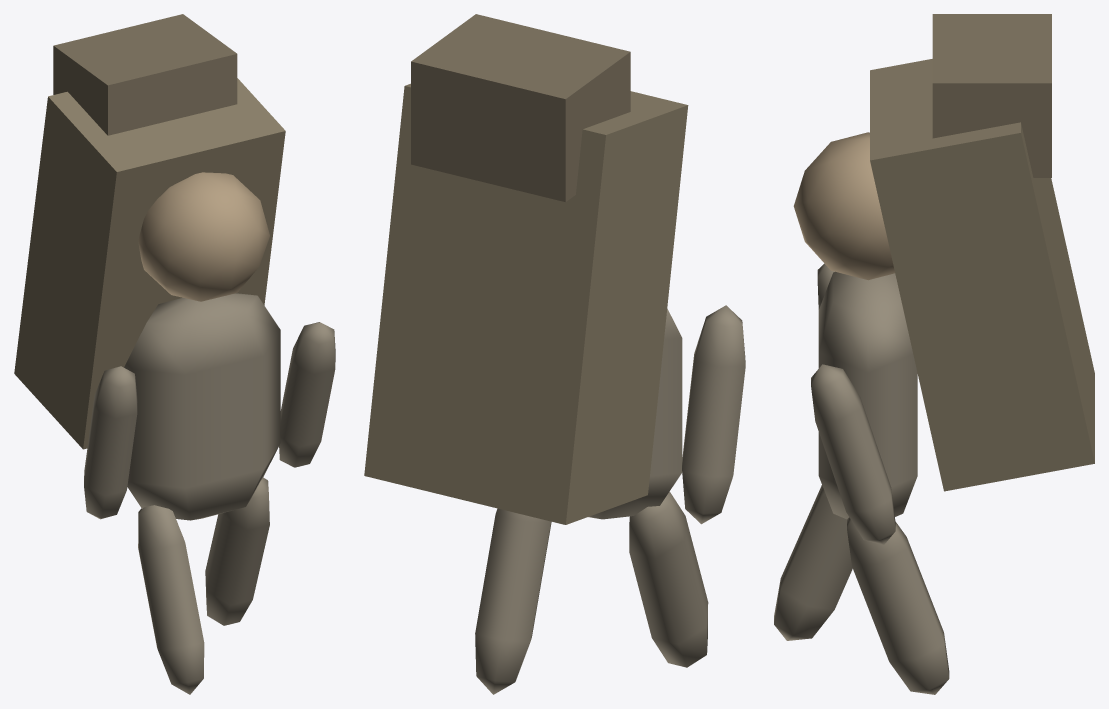
The model's file is civilian2.glb.
3 renders of one model, left to right at view 1: azimuth 30°, elevation 25°; view 2: azimuth 150°, elevation 25°; view 3: azimuth 270°, elevation 25°, orthographic. The views are drawn at different scales.
Visible parts, largest first — view 1: civilian2; view 2: civilian2; view 3: civilian2.
Part boxes in pixels (<box>): civilian2: <box>14,14,335,694</box>; civilian2: <box>364,14,745,694</box>; civilian2: <box>774,14,1094,694</box>.
Size of the model in its own units: 1.22 by 2.75 by 1.29.
